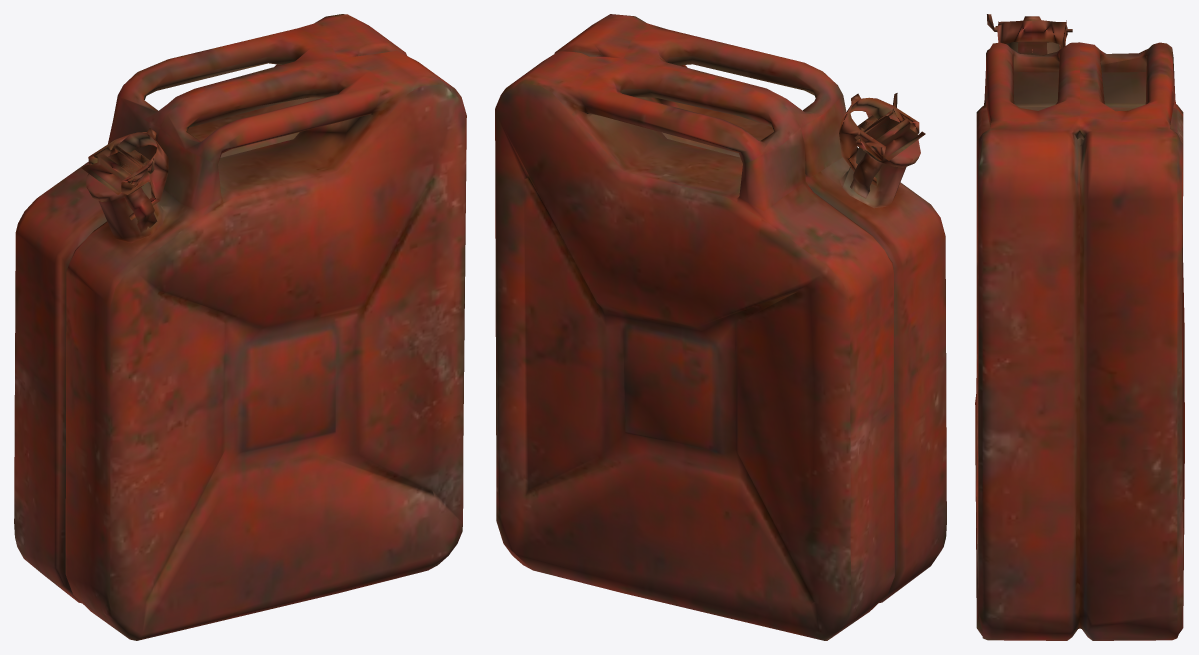
File: metal_jerrycan.glb
The picture shows the model from 3 angles, left to right: view 1: azimuth 30°, elevation 25°; view 2: azimuth 150°, elevation 25°; view 3: azimuth 270°, elevation 25°; orthographic projection. The views are drawn at different scales.
Visible parts, largest first — view 1: metal_jerrycan; view 2: metal_jerrycan; view 3: metal_jerrycan.
Part boxes in pixels (x1,y1,x2,y2): metal_jerrycan: (14, 14, 466, 640); metal_jerrycan: (495, 14, 946, 640); metal_jerrycan: (975, 14, 1184, 640).
Bounding box in the file's own units: 0.3492 × 0.4548 × 0.1717.
1 material, 1 textured.
